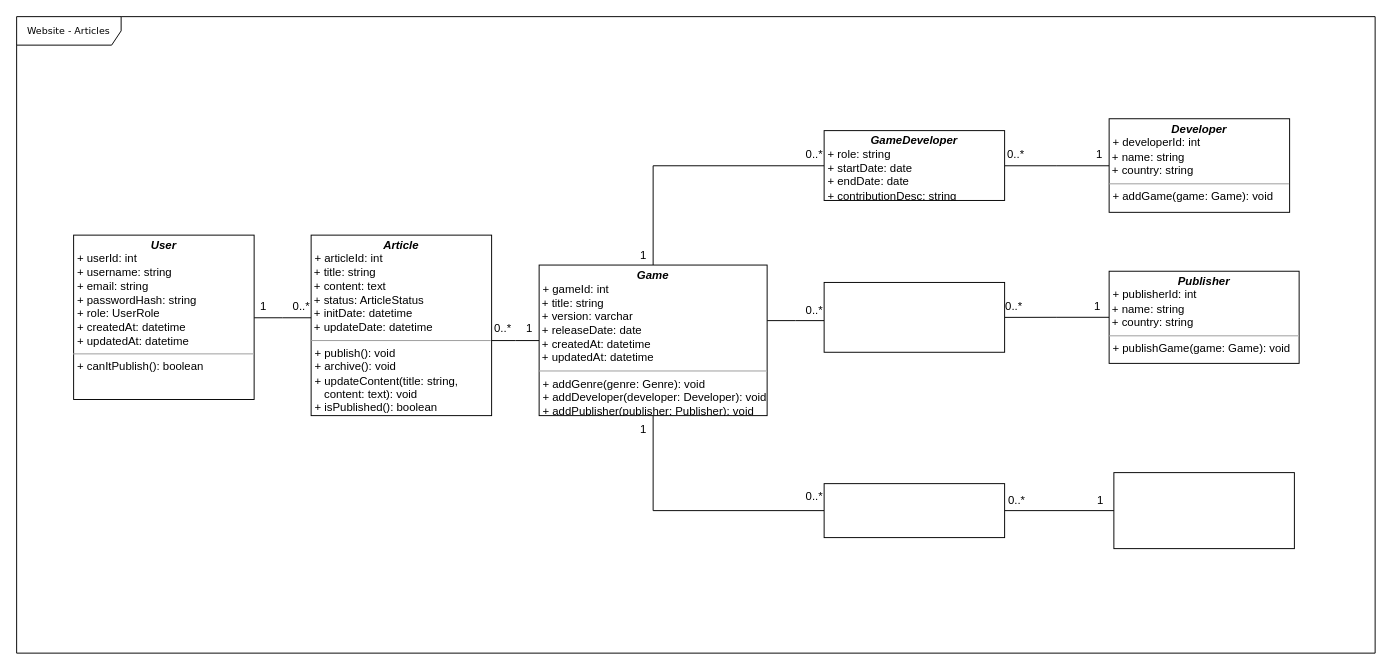
Image size: 1392x670. Some labels were removed from this diagram. The centre of each missing label's shape, as x and y in pixels:
"GameGenre + isPrimary: Boolean + assignedDate: Date" belongs at pixel 914 510.
"GamePublisher + region: String + publishDate: Date + contractValue: double" belongs at pixel 914 316.
"Genre + genreId: int + name: string + rename(name: string): void" belongs at pixel 1203 510.
